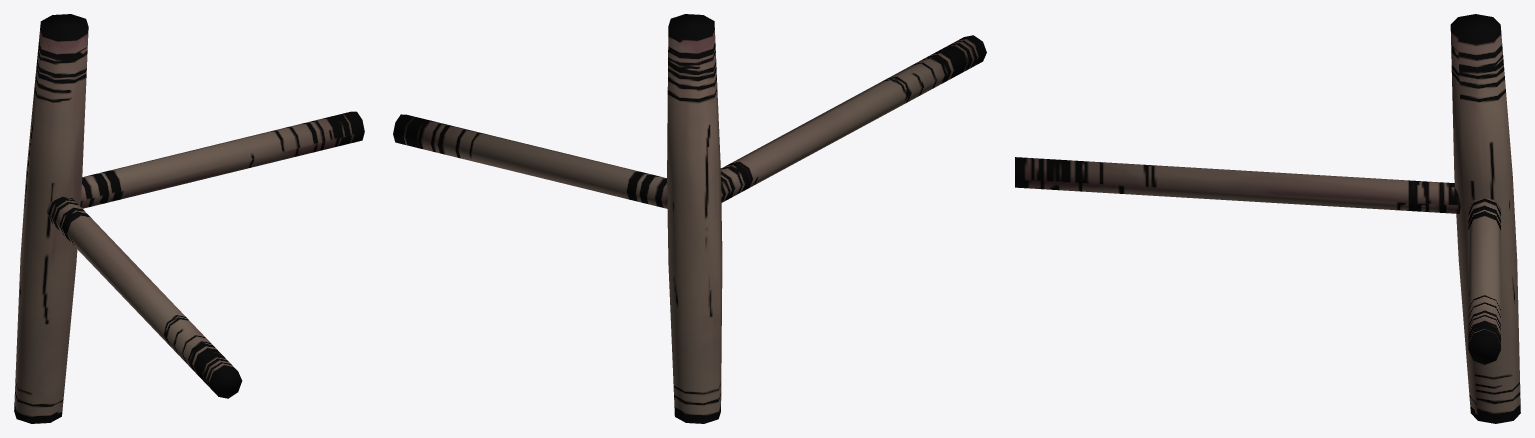
Rendered from armchair_gib6.fbx.
3 views of the same model, side by side, from view 1: azimuth 30°, elevation 25°; view 2: azimuth 150°, elevation 25°; view 3: azimuth 270°, elevation 25° (orthographic). The views are drawn at different scales.
Parts seen in each view (by area): view 1: armchair_gib6; view 2: armchair_gib6; view 3: armchair_gib6.
Part boxes in pixels (x1,y1,x2,y2): armchair_gib6: [14, 14, 364, 423]; armchair_gib6: [393, 14, 986, 423]; armchair_gib6: [1015, 14, 1520, 423].
Size of the model in its own units: 153 by 154 by 177.
